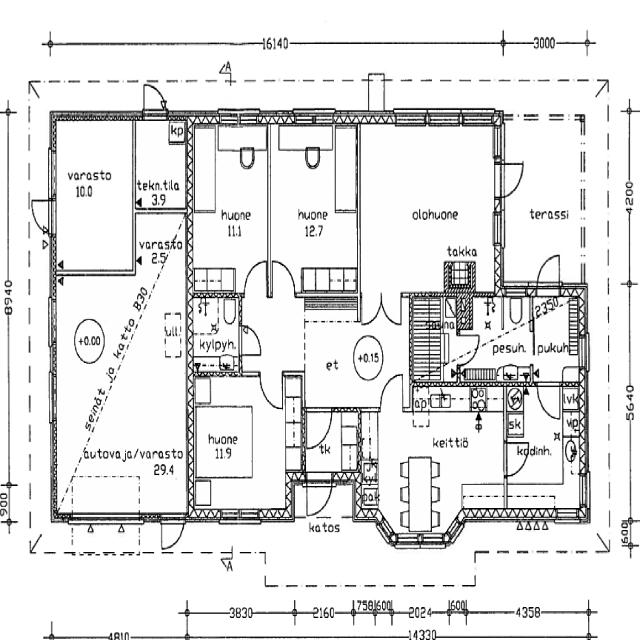door: (304, 406, 333, 451), (305, 474, 334, 518), (446, 330, 479, 367), (378, 369, 406, 412), (140, 79, 168, 122), (242, 256, 269, 298), (270, 256, 298, 296), (535, 250, 562, 291), (258, 370, 285, 411), (504, 438, 530, 477), (378, 290, 404, 328), (238, 321, 264, 358), (160, 514, 186, 550), (30, 197, 54, 235), (500, 158, 524, 196), (538, 381, 562, 418), (358, 294, 382, 326)
window: (220, 109, 264, 129), (426, 108, 463, 128), (289, 112, 331, 128), (491, 203, 505, 249), (579, 330, 590, 371), (442, 524, 461, 546), (418, 533, 443, 549), (554, 510, 579, 524), (487, 546, 501, 555), (526, 547, 540, 556)
zone: (358, 121, 499, 290), (373, 399, 506, 540), (269, 123, 360, 295), (191, 374, 295, 519), (501, 117, 586, 282), (190, 123, 270, 293), (52, 119, 134, 274), (297, 303, 406, 410), (507, 392, 582, 516), (134, 119, 187, 210), (188, 294, 240, 376), (533, 300, 581, 384), (407, 291, 446, 380)
